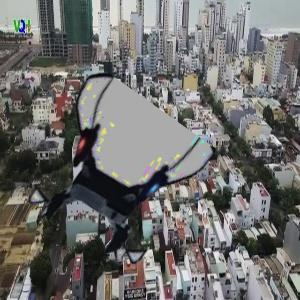drone: (34, 96, 197, 259)
